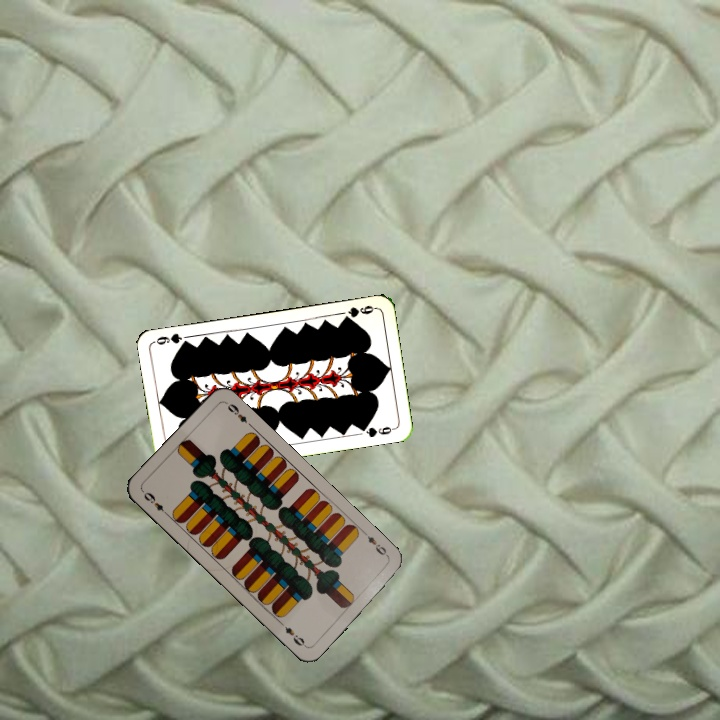E9: (138, 487, 171, 519), (360, 528, 392, 561)
G9: (339, 301, 378, 323)
